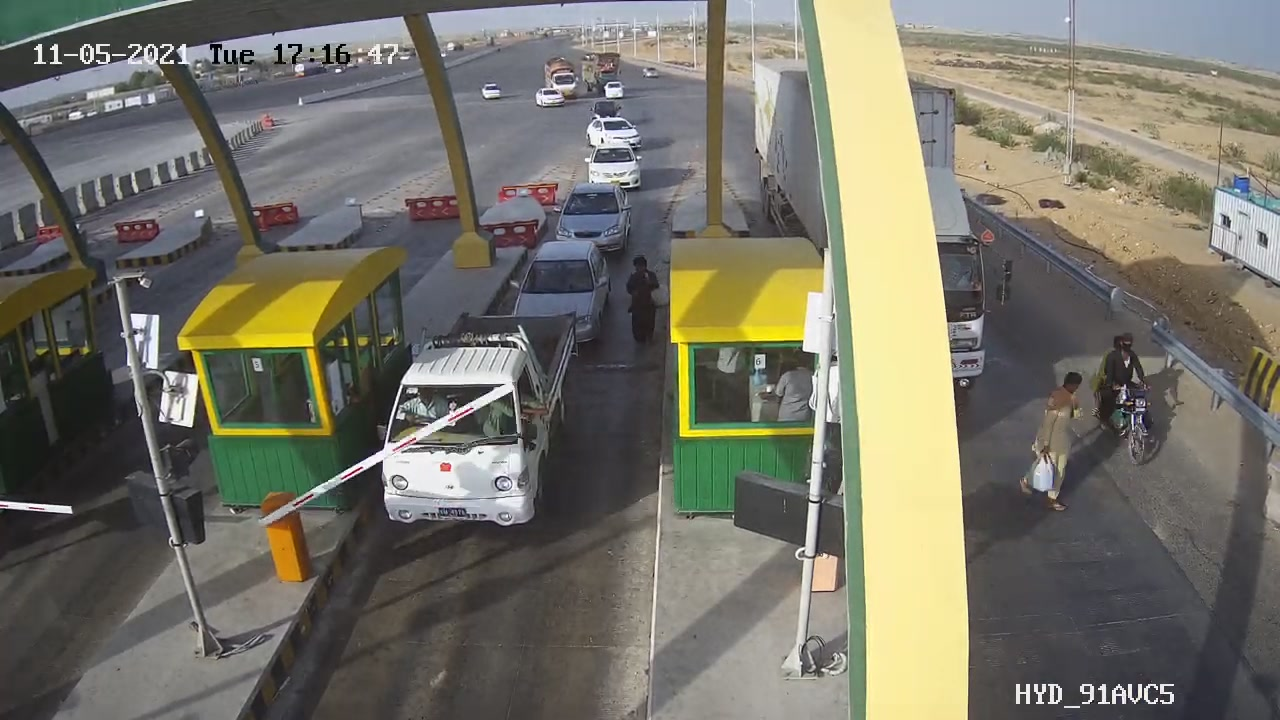F1: (540, 173, 643, 261)
F2: (366, 305, 589, 538)
